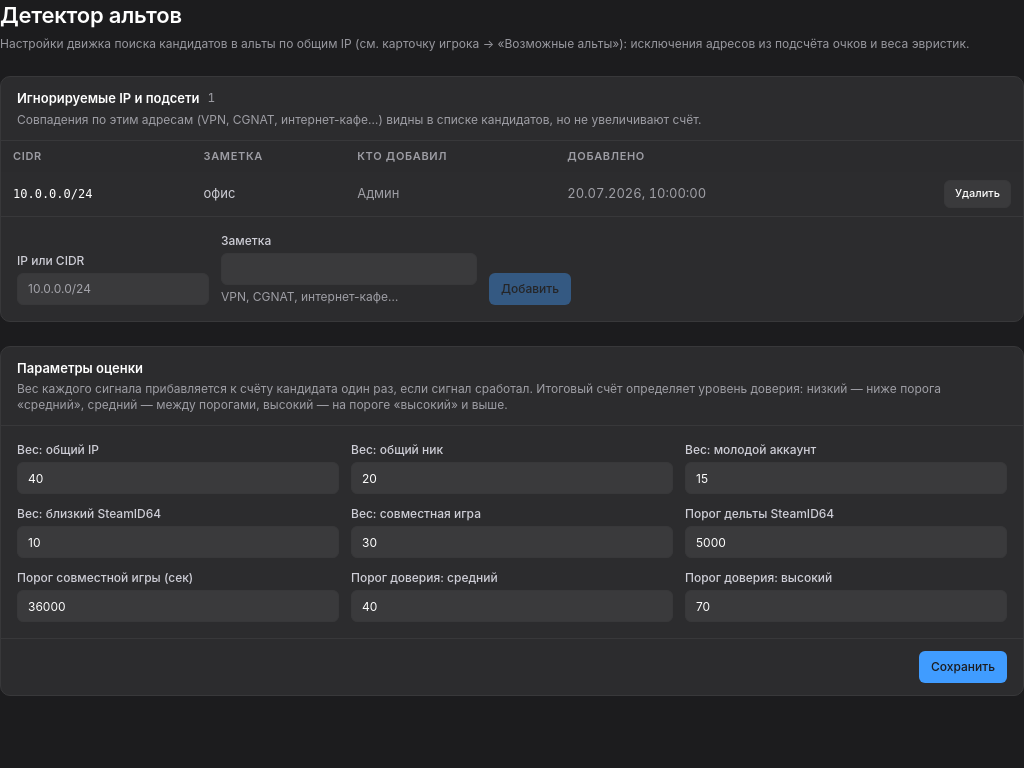
Scenario: AltDetectionPage › saves the edited weights with a PUT of exactly the form fields
Step 1. Replace the text in the number field labelled "Вес: общий IP" with "45" → [178, 478], box [17, 462, 339, 494]
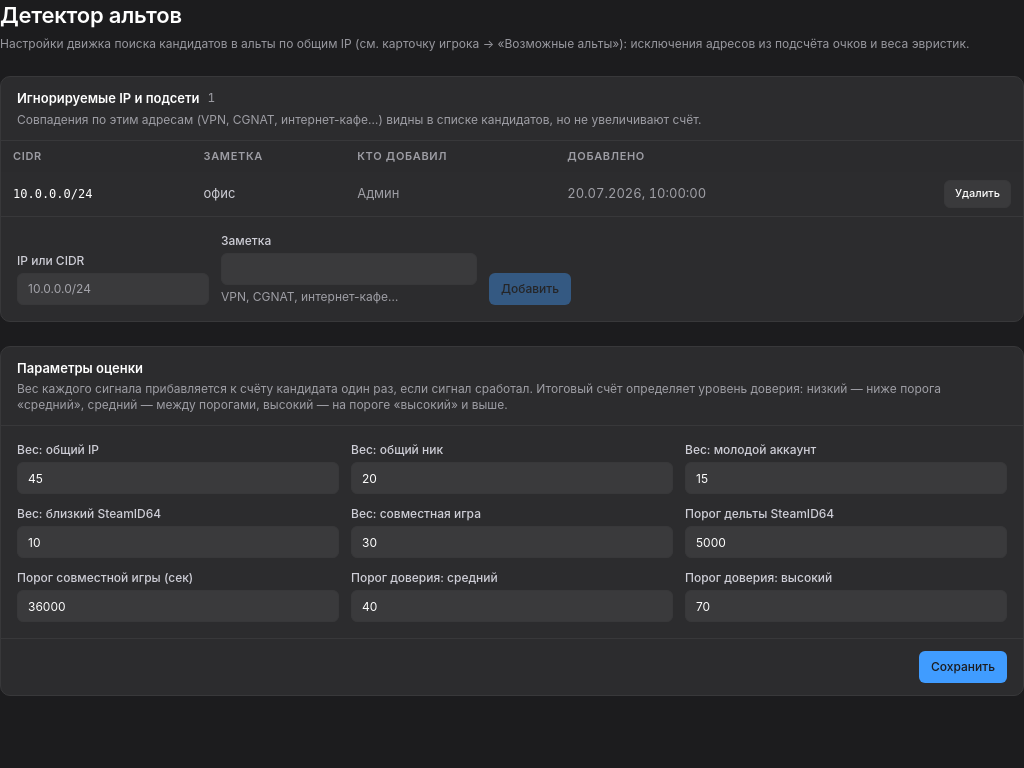
Step 2. Click the button "Сохранить" → [963, 667], box [919, 651, 1007, 683]
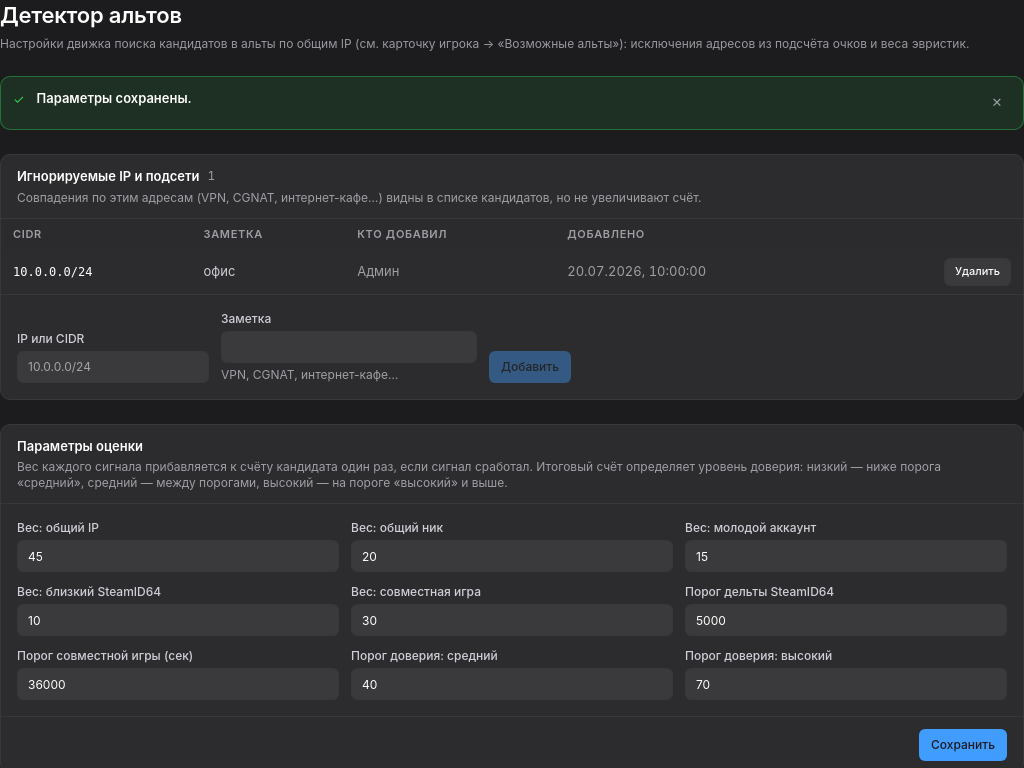
Now the text "Параметры сохранены." is shown, box [36, 90, 192, 106]
